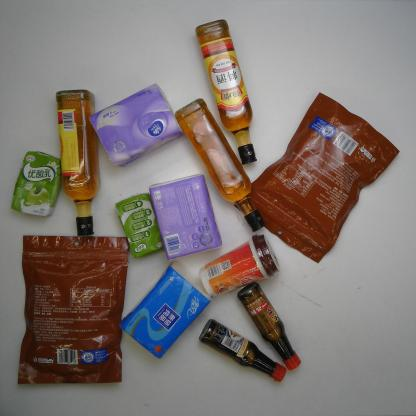Dried Food: (231, 90, 401, 266), (15, 232, 130, 387)
Instant Drink: (198, 233, 282, 298)
Milk: (9, 149, 64, 220), (113, 191, 166, 259)
Seasoner: (173, 96, 267, 233), (194, 17, 259, 167), (54, 88, 103, 236), (236, 281, 303, 372), (198, 317, 288, 383)
Tissue: (118, 258, 216, 362), (88, 81, 184, 168), (148, 172, 224, 262)
